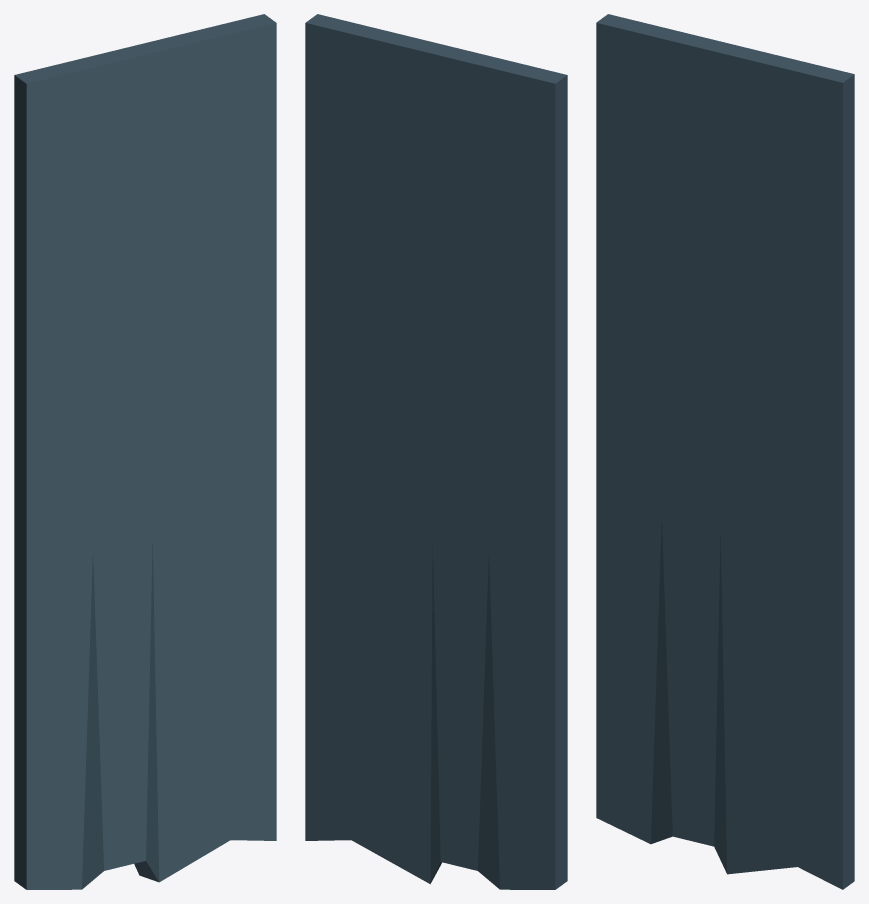
Rendered from SM_Prop_Banner_02.glb.
The picture shows the model from 3 angles, left to right: view 1: azimuth 30°, elevation 25°; view 2: azimuth 150°, elevation 25°; view 3: azimuth 330°, elevation 25°; orthographic projection.
Visible parts, largest first — view 1: SM_Prop_Banner_02; view 2: SM_Prop_Banner_02; view 3: SM_Prop_Banner_02.
Part boxes in pixels (bbox=[...]): SM_Prop_Banner_02: bbox=[14, 14, 276, 889]; SM_Prop_Banner_02: bbox=[305, 14, 567, 889]; SM_Prop_Banner_02: bbox=[596, 14, 854, 889].
Size of the model in its own units: 0.0199 by 0.0632 by 0.00166.
1 material, 1 textured.
